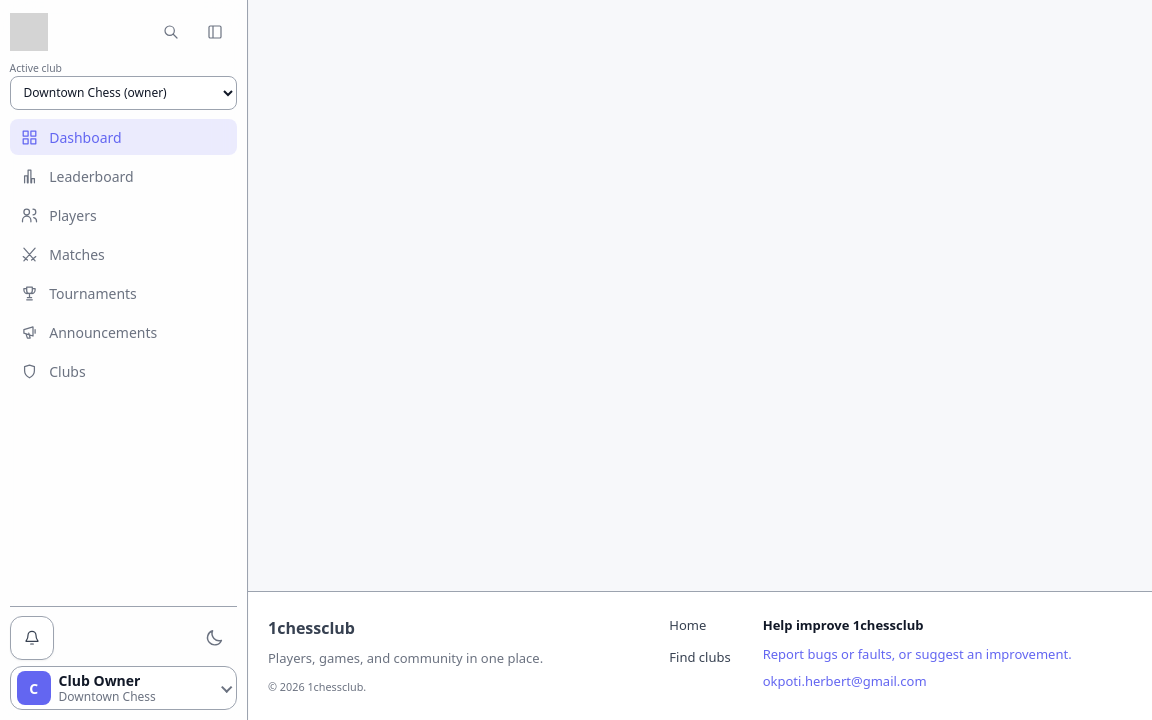
Scenario: AppLayout navigation › resets document scroll when navigating between pages
(page scrolled)
Step 1. Click the link "Matches" → coordinates (63, 254), box [21,245,105,264]
(page scrolled)
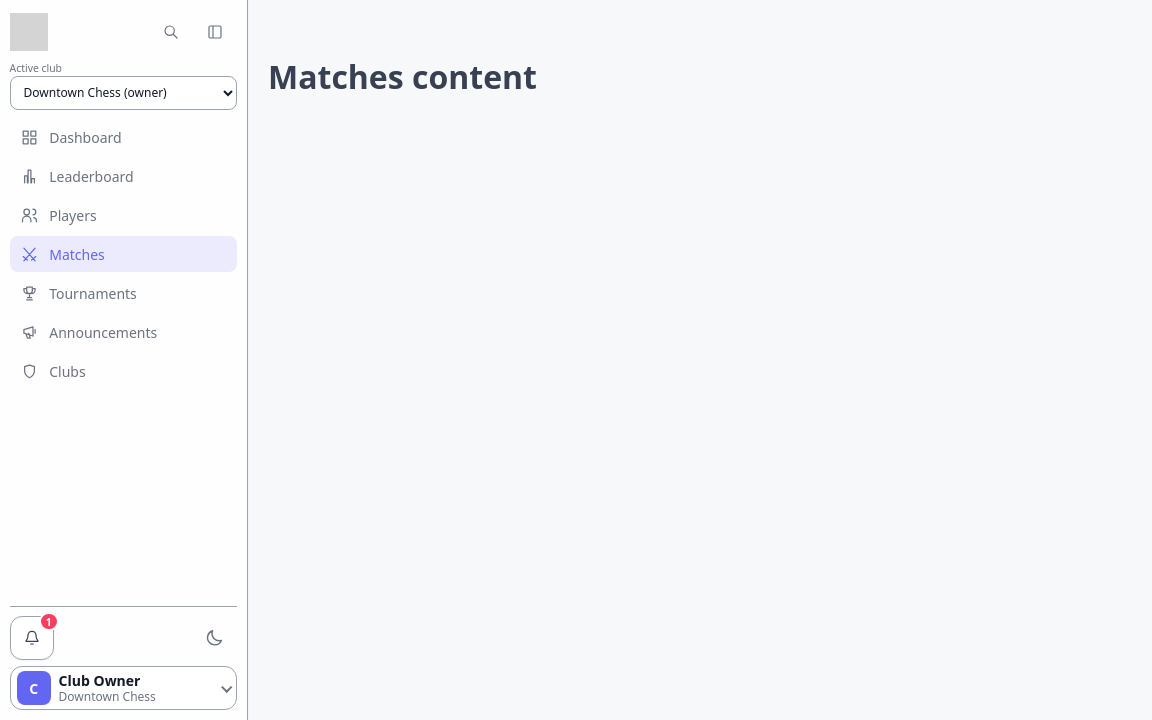
Expected: the heading "Matches content" is shown, [268,55,537,98]
